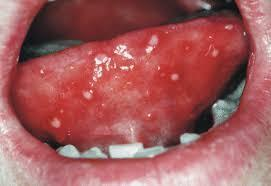Ulcer: (63, 48, 192, 123)
